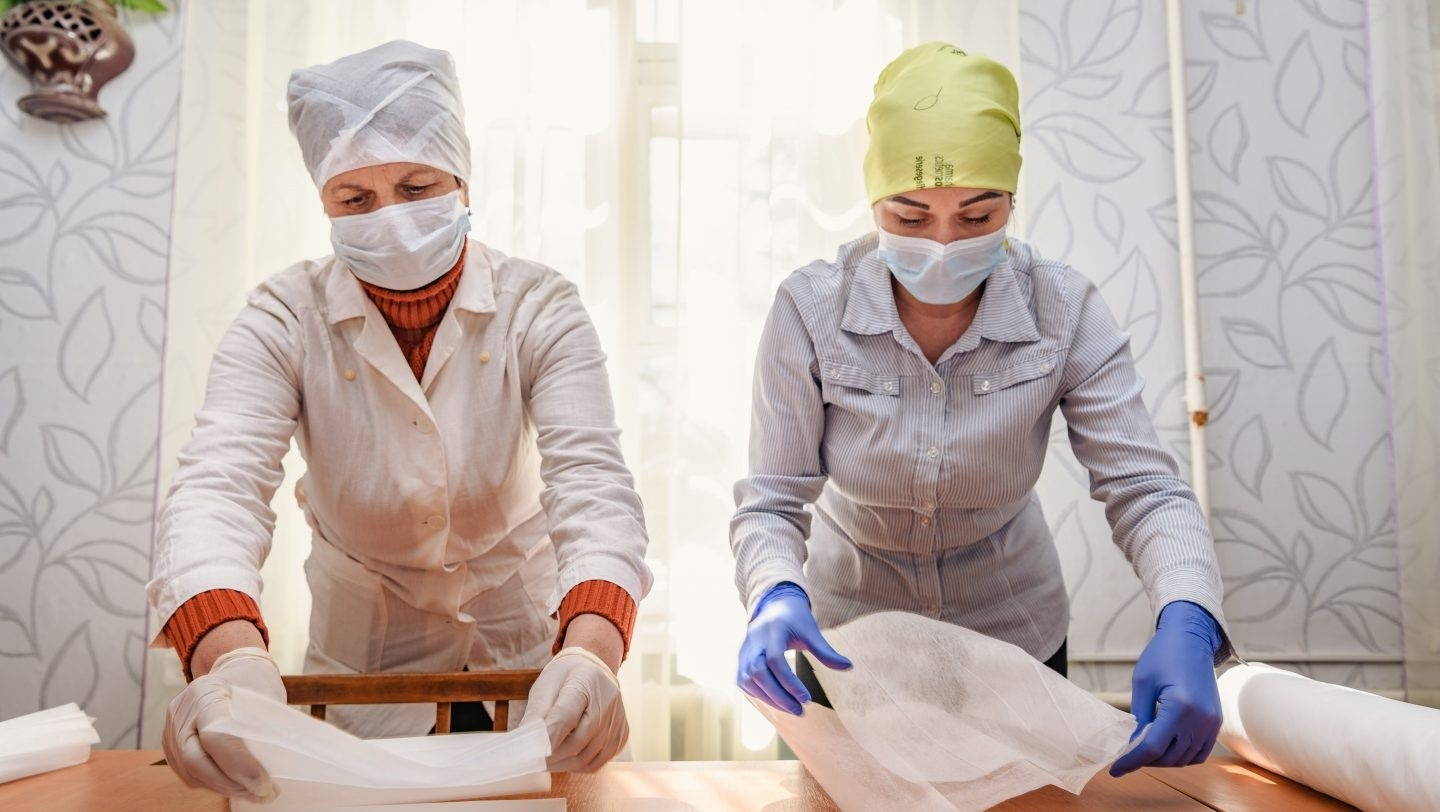face_with_mask: (285, 38, 486, 295), (865, 39, 1028, 313)
